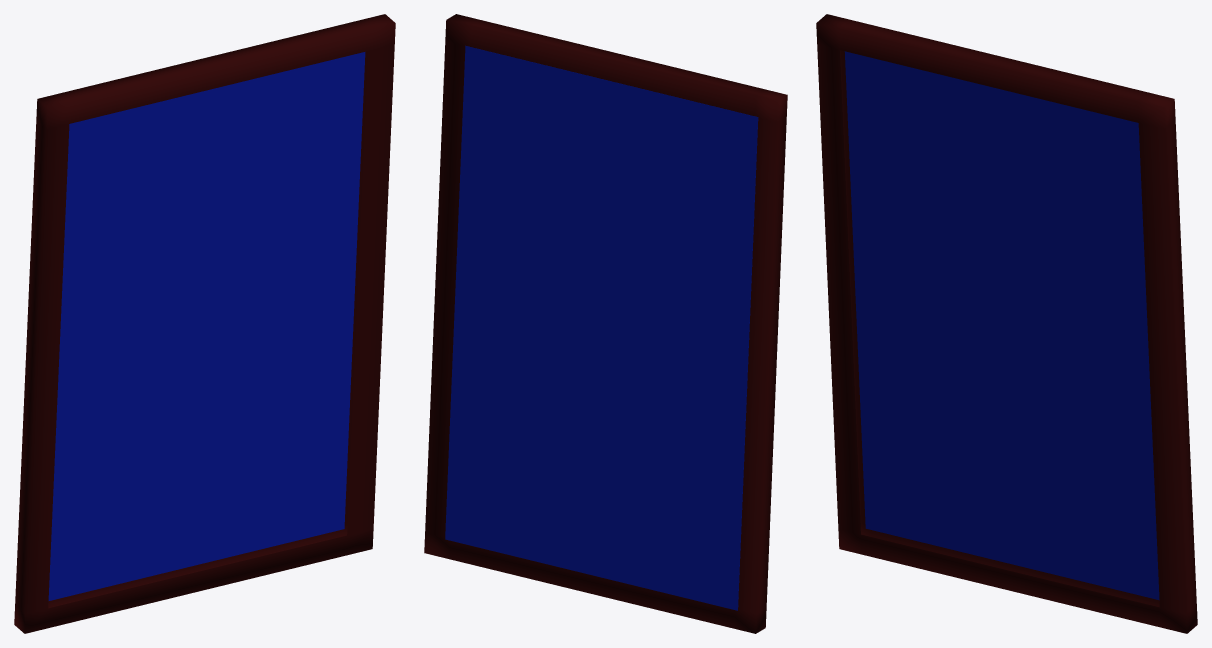
Rendered from Picture.obj.
3 renders of one model, left to right at view 1: azimuth 30°, elevation 25°; view 2: azimuth 150°, elevation 25°; view 3: azimuth 330°, elevation 25°, orthographic. The views are drawn at different scales.
Bounding box in the file's own units: 0.5865 × 0.8766 × 0.098.
